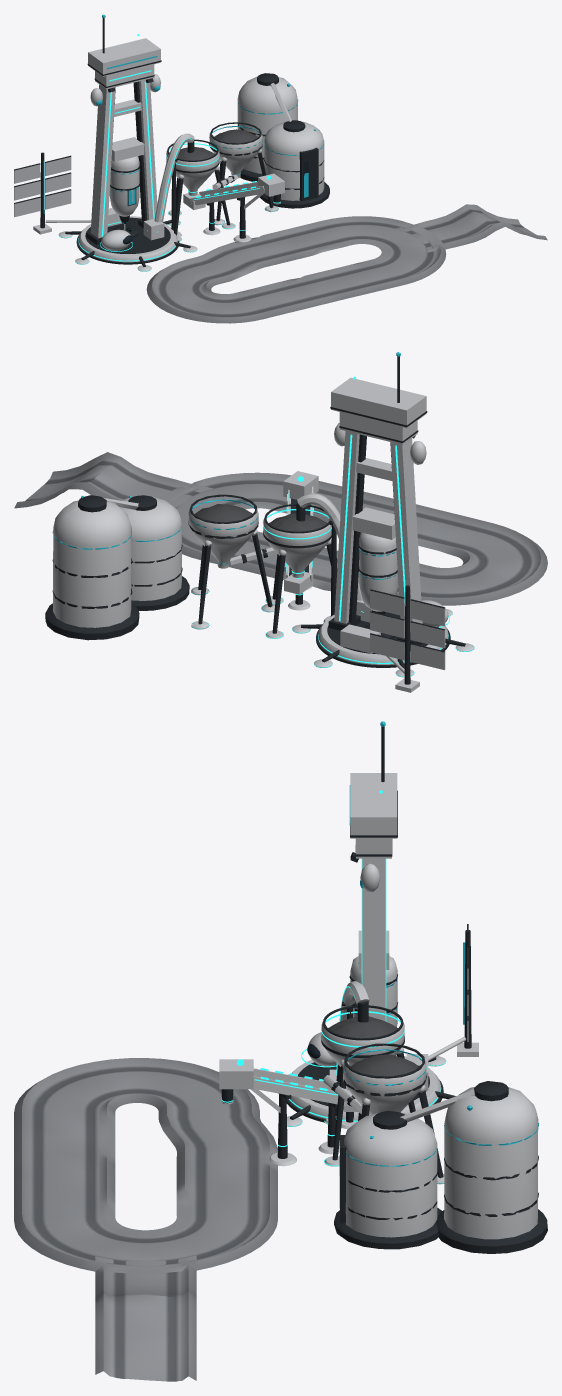
Rendered from mine_game.glb.
3 views of the same model, one above another, from view 1: azimuth 30°, elevation 25°; view 2: azimuth 150°, elevation 25°; view 3: azimuth 270°, elevation 25° (orthographic). The views are drawn at different scales.
Parts seen in each view (by area): view 1: Base_Paint, Silo, Tier_12, Tier_08, Tier_05, Tier_20, Rig, Base_GlowCyan; view 2: Base_Paint, Tier_12, Silo, Tier_08, Tier_05, Tier_20, Rig, Base_GlowCyan; view 3: Base_Paint, Tier_12, Silo, Tier_05, Tier_20, Tier_08, Base_GlowCyan, Rig.
Part boxes in pixels (x1,y1,x2,y2): Base_Paint: (58,64,547,323); Silo: (259,120,329,208); Tier_12: (237,73,298,181); Tier_08: (14,152,91,234); Tier_05: (209,122,278,225); Tier_20: (87,14,161,106); Rig: (109,137,144,230); Base_GlowCyan: (58,34,280,271); Base_Paint: (14,412,547,677); Tier_12: (45,495,139,640); Silo: (120,495,189,610); Tier_08: (370,585,445,692); Tier_05: (188,494,277,629); Tier_20: (330,352,427,464); Rig: (352,507,398,614); Base_GlowCyan: (263,376,474,676); Base_Paint: (14,838,455,1381); Tier_12: (400,1081,547,1253); Silo: (334,1111,441,1249); Tier_05: (323,1043,444,1184); Tier_20: (349,721,397,892); Tier_08: (428,924,478,1060); Base_GlowCyan: (221,790,446,1166); Rig: (349,930,398,1027).
Bounding box in the file's own units: 41.55 × 23.84 × 29.52.
